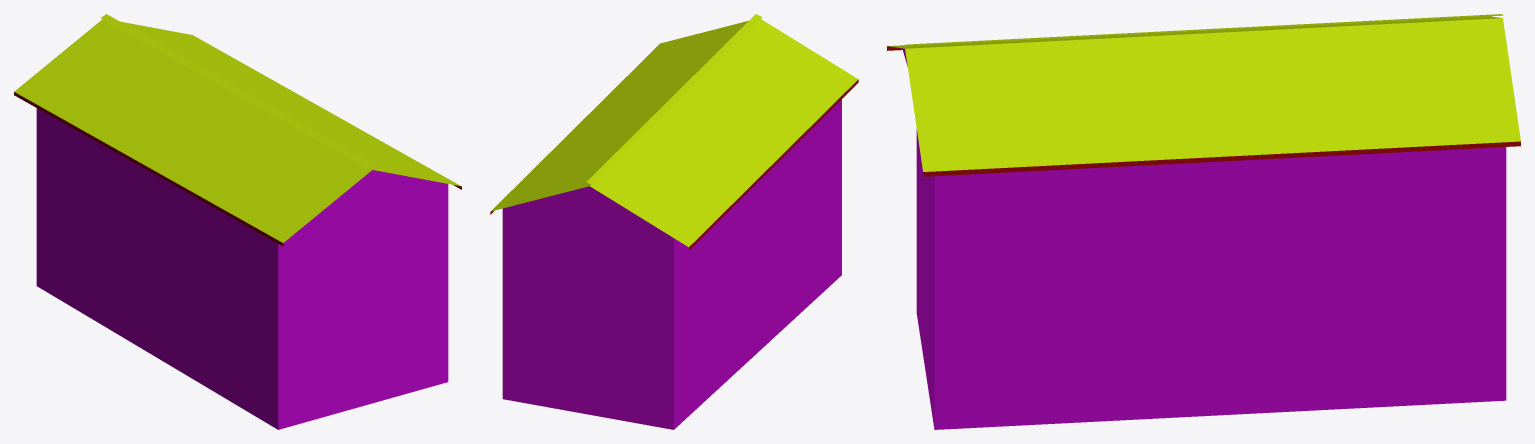
File: atelier_verriere_b.glb
3 renders of one model, left to right at view 1: azimuth 30°, elevation 25°; view 2: azimuth 150°, elevation 25°; view 3: azimuth 270°, elevation 25°, orthographic. The views are drawn at different scales.
Visible parts, largest first — view 1: atelier_verriere_b; view 2: atelier_verriere_b; view 3: atelier_verriere_b.
Boxes of the visible parts, <box> form: atelier_verriere_b: <box>14,14,461,429</box>; atelier_verriere_b: <box>490,14,858,429</box>; atelier_verriere_b: <box>887,14,1520,429</box>.
Size of the model in its own units: 8.53 by 8.36 by 14.59.
